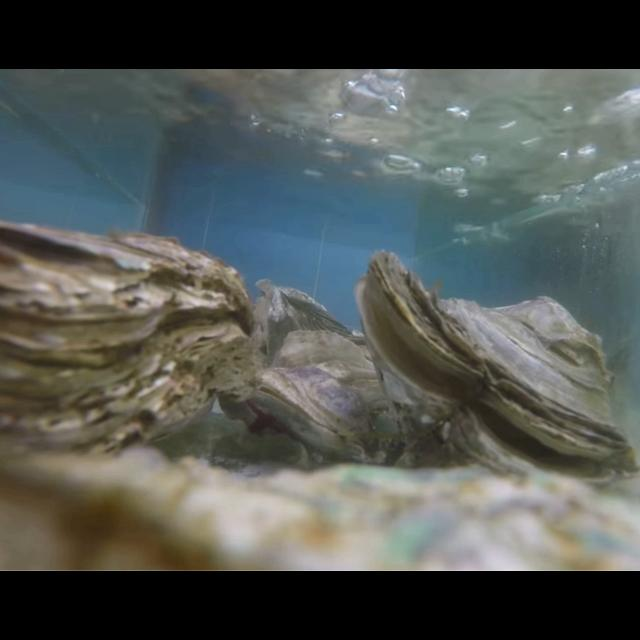Oyster-Closed: (0, 450, 640, 572), (0, 222, 256, 485), (254, 278, 370, 369)
Oyster-Open: (354, 251, 640, 494), (251, 329, 411, 468)
